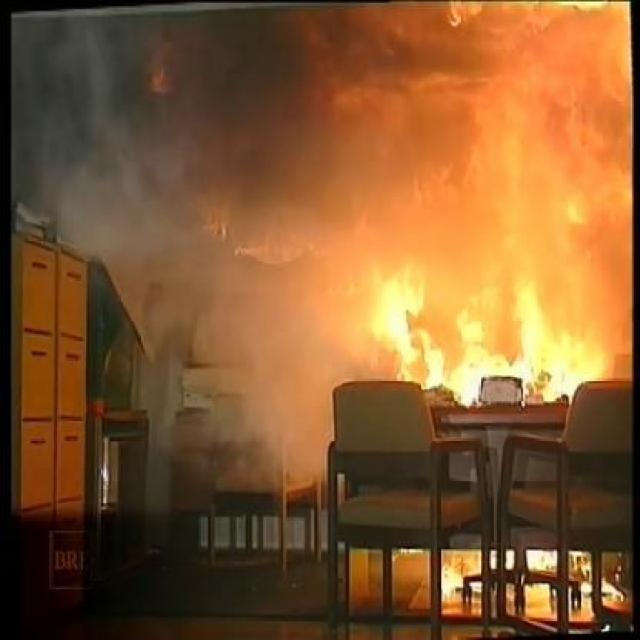fire: (353, 141, 632, 394)
smoke: (13, 7, 259, 272)
